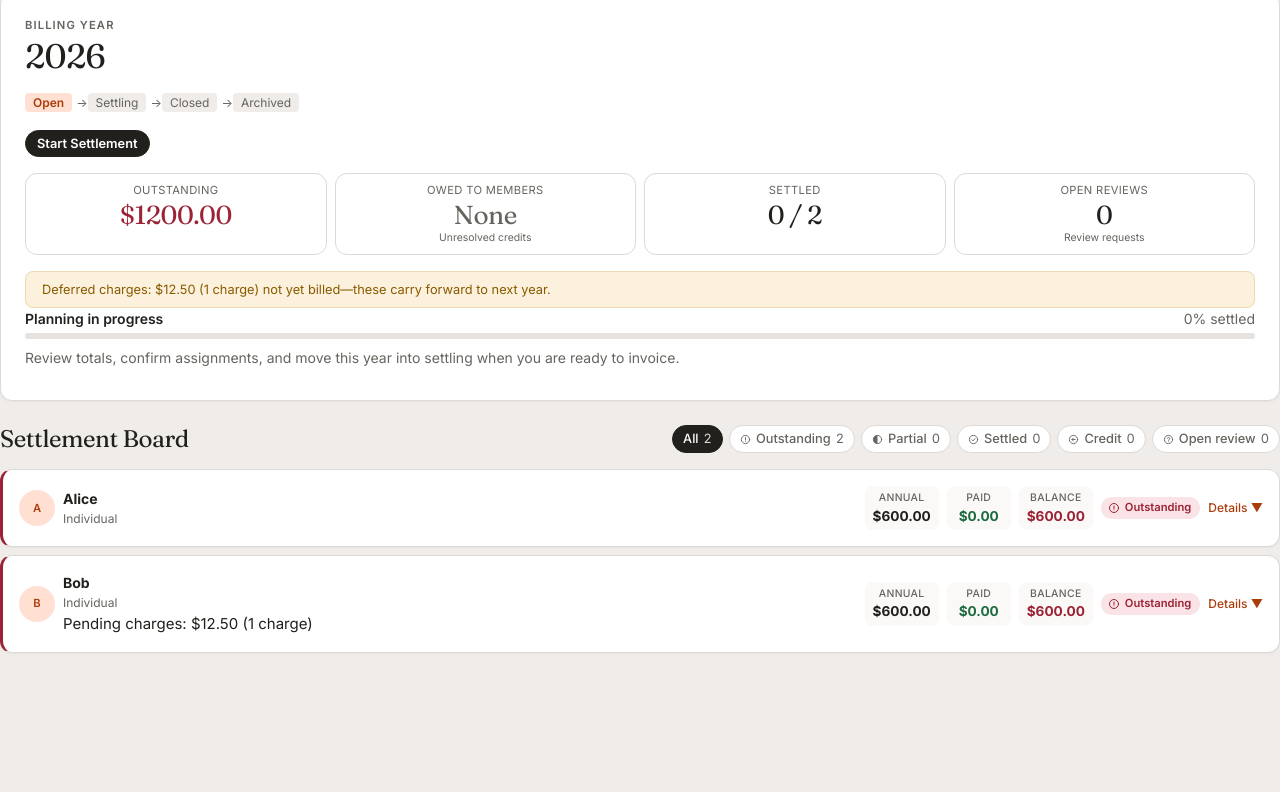
DashboardView › Bill Charges (Charge Notice) › confirms the Charge Notice was sent when the member email went out
Click the text "Bob".
click(37, 604)  # box top-left (3, 556), bottom-right (1279, 652)
(page scrolled)
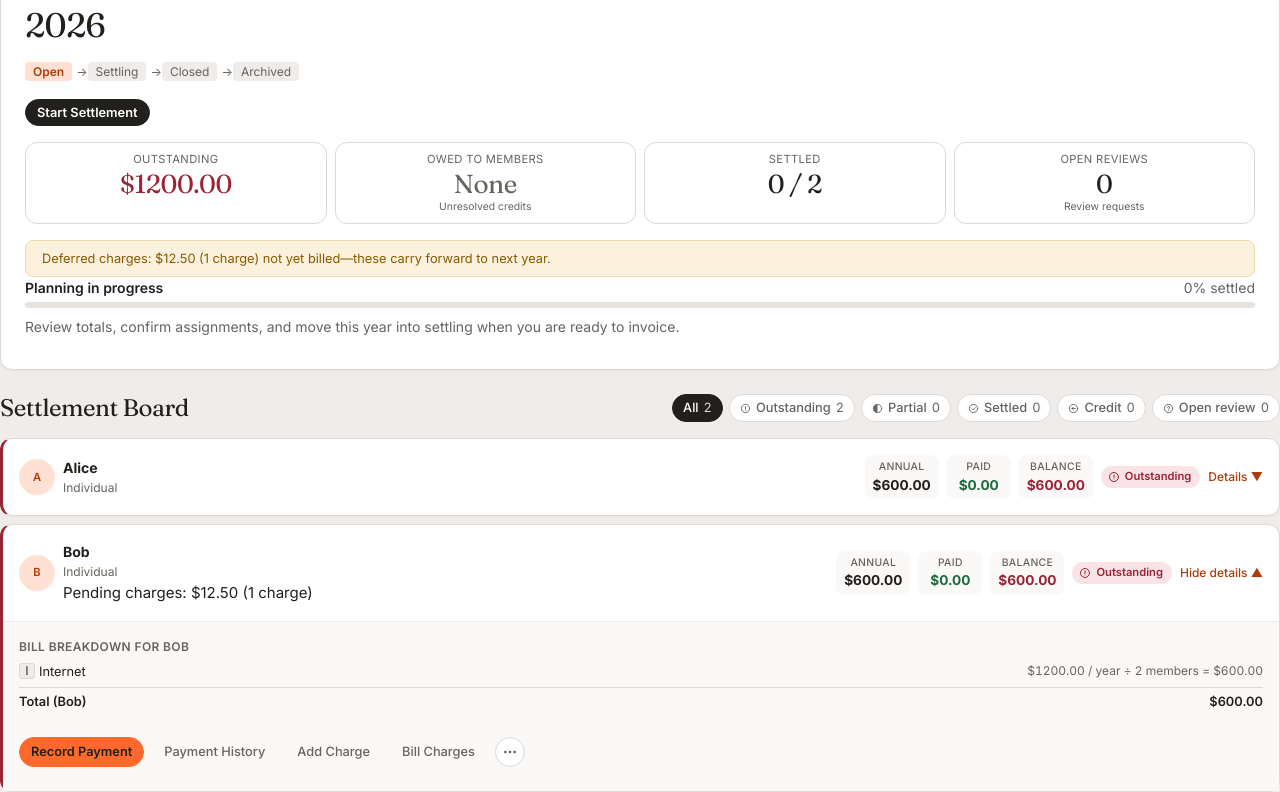
Click the button "Bill Charges".
click(438, 752)  # box top-left (390, 737), bottom-right (487, 767)
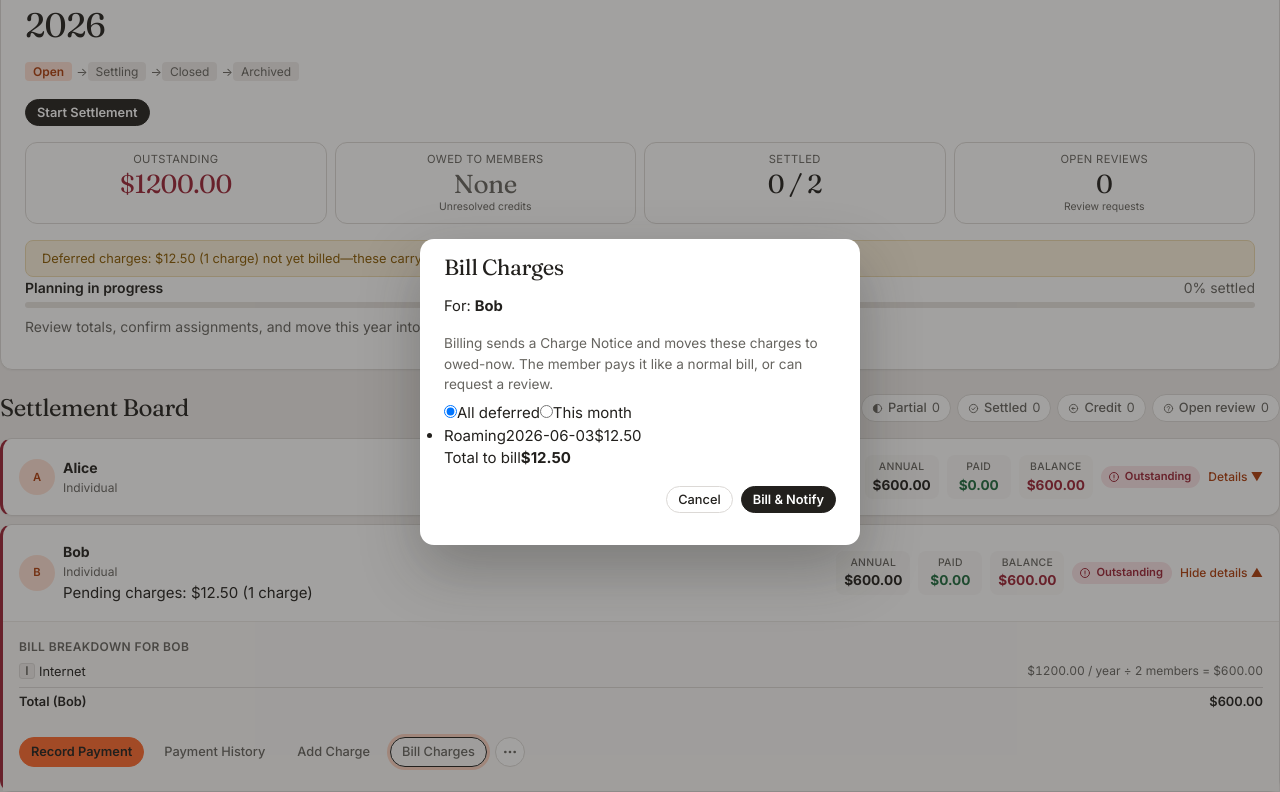
Click the button "Bill & Notify".
click(788, 499)  # box top-left (741, 486), bottom-right (836, 513)
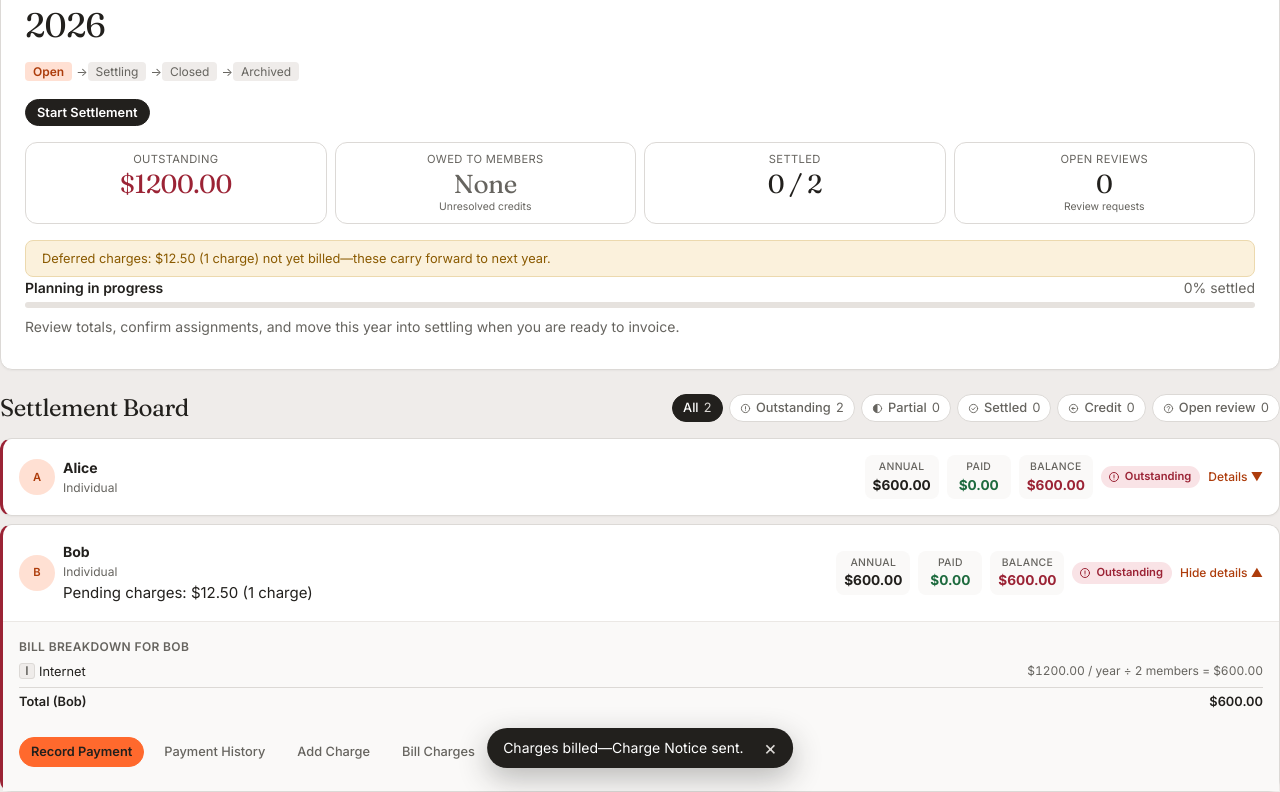
Now the text "Charges billed—Charge Notice sent." is shown, box top-left (503, 738), bottom-right (744, 758)
